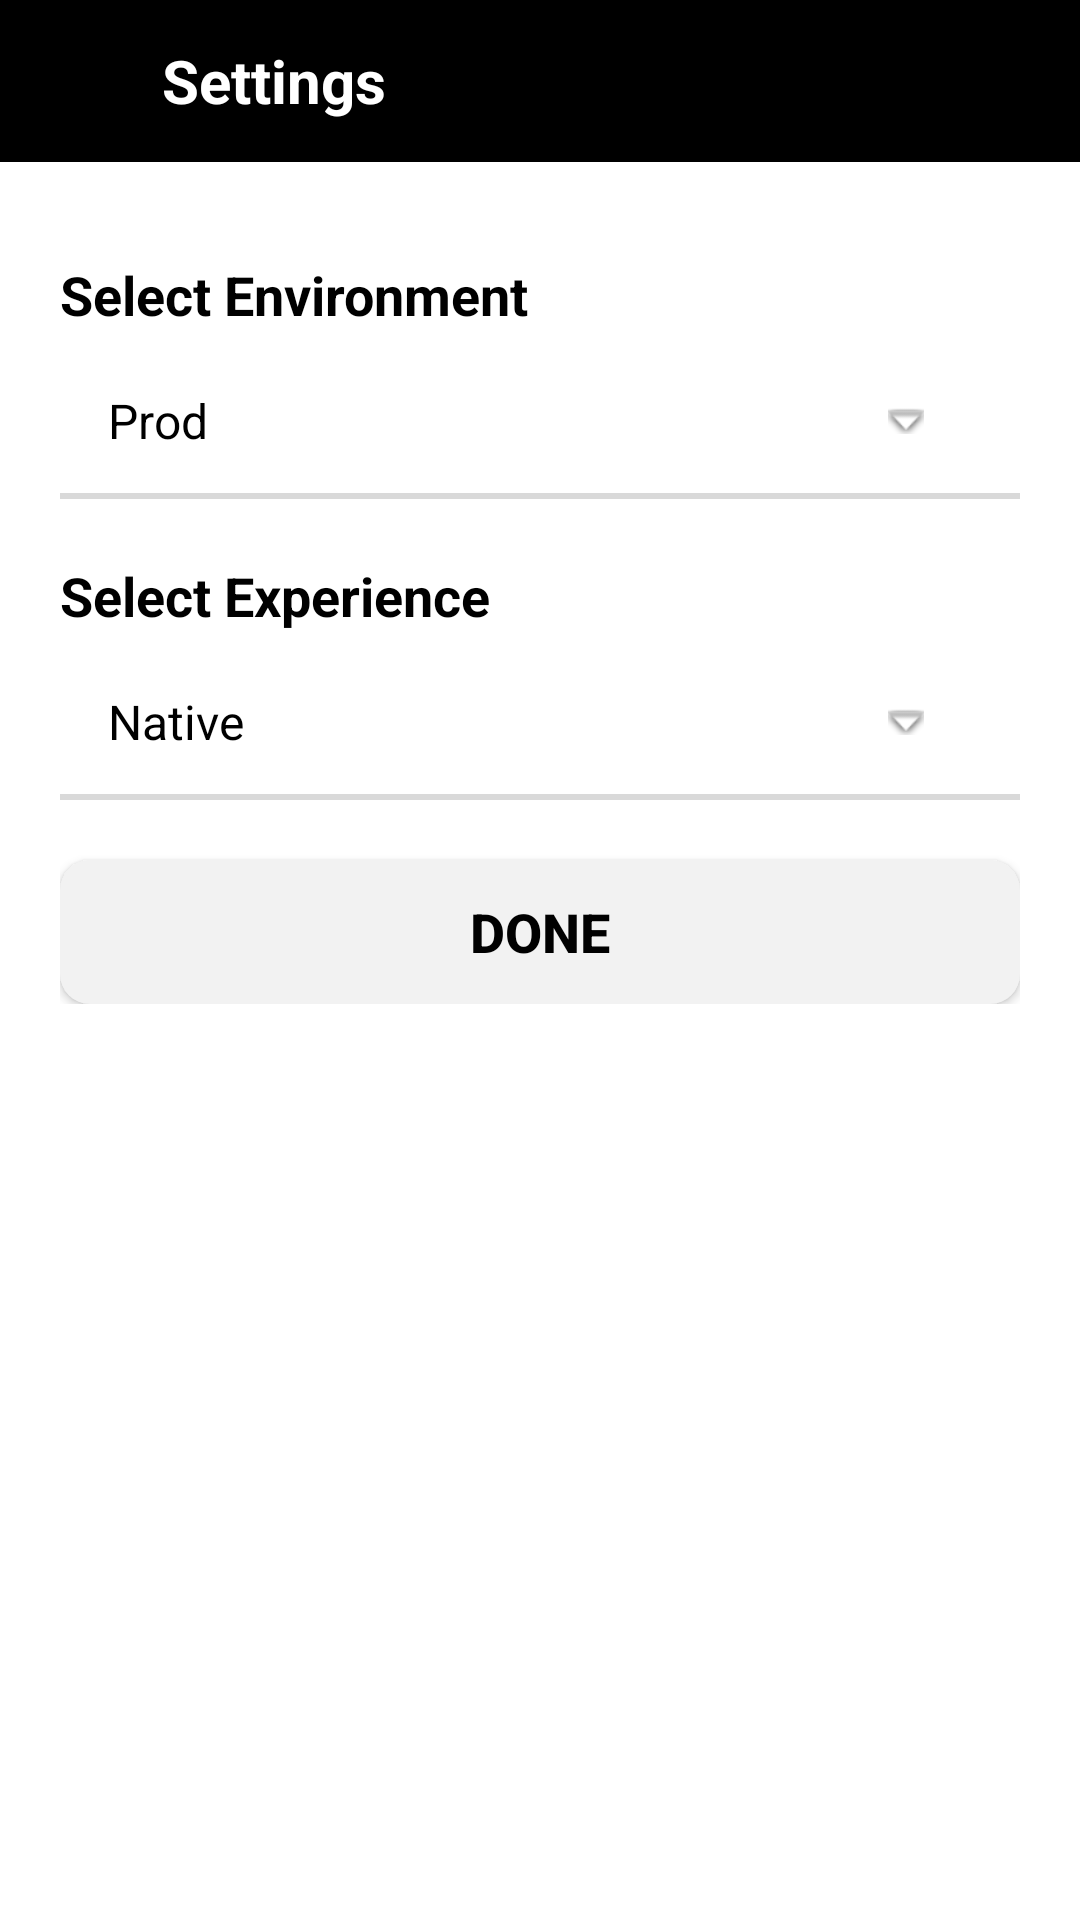

Icons on this 1080px x 1920px Android screen, each with the point to tap as (x=x, y=y):
arrow down float: (x=906, y=421), (x=906, y=722)
